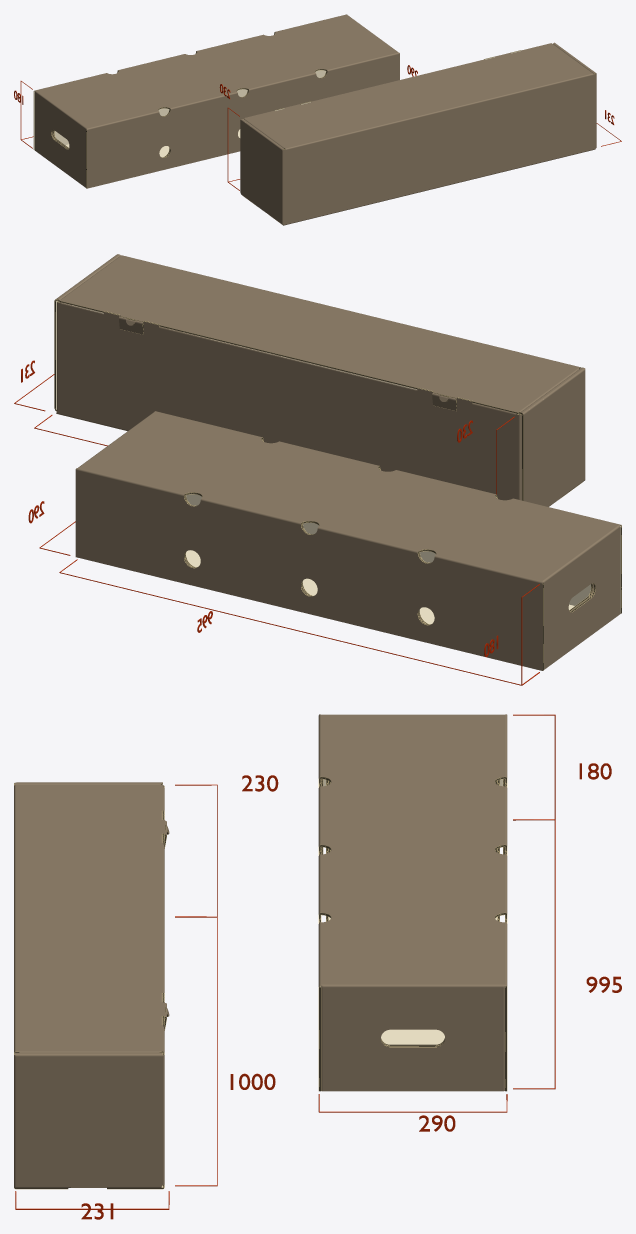
File: 5D BRUFLOR.gltf
The picture shows the model from 3 angles, top to bottom: view 1: azimuth 30°, elevation 25°; view 2: azimuth 150°, elevation 25°; view 3: azimuth 270°, elevation 25°; orthographic projection. The views are drawn at different scales.
Visible parts, largest first — view 1: TQ_1_ARD-node, tq_3_ARD-node, tq_2_ARD-node; view 2: tq_3_ARD-node, TQ_1_ARD-node, tq_2_ARD-node, Plano.001; view 3: tq_3_ARD-node, TQ_1_ARD-node, tq_2_ARD-node.
Boxes of the visible parts, x1,y1,x2,y2 form: TQ_1_ARD-node: [240, 42, 596, 225]; tq_3_ARD-node: [33, 14, 399, 188]; tq_2_ARD-node: [52, 70, 326, 157]; tq_3_ARD-node: [75, 411, 621, 670]; TQ_1_ARD-node: [54, 254, 585, 506]; tq_2_ARD-node: [185, 494, 593, 624]; Plano.001: [59, 559, 539, 685]; tq_3_ARD-node: [318, 714, 507, 1091]; TQ_1_ARD-node: [14, 782, 169, 1189]; tq_2_ARD-node: [326, 780, 499, 1045].
Bounding box in the file's own units: 1.47 × 0.2619 × 0.9449.
Materials: 10 (3 with a texture image).
